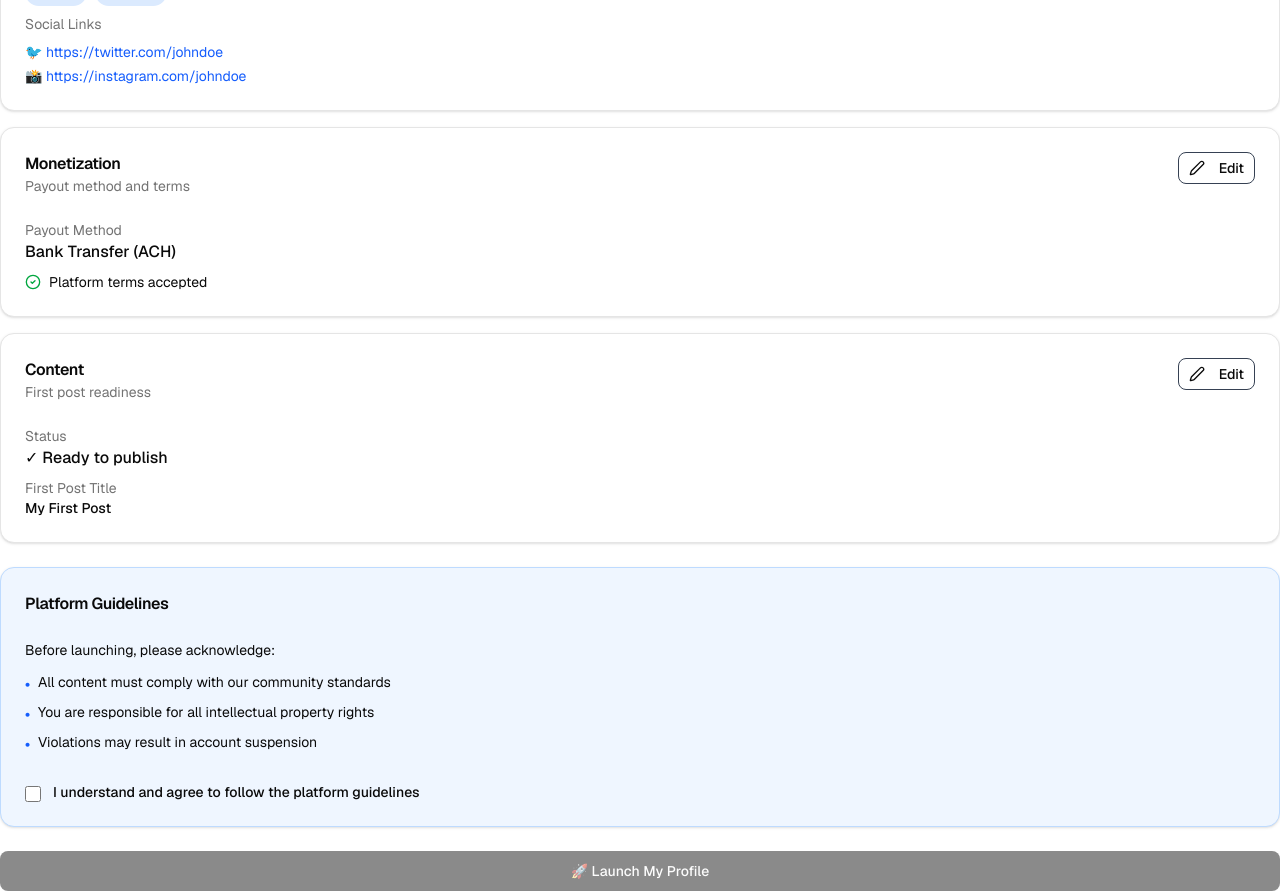
Test case: ReviewStep › should show launch confirmation dialog
(page scrolled)
Accept guidelines
Click the checkbox.
click(33, 794)  # box [25,786,41,802]
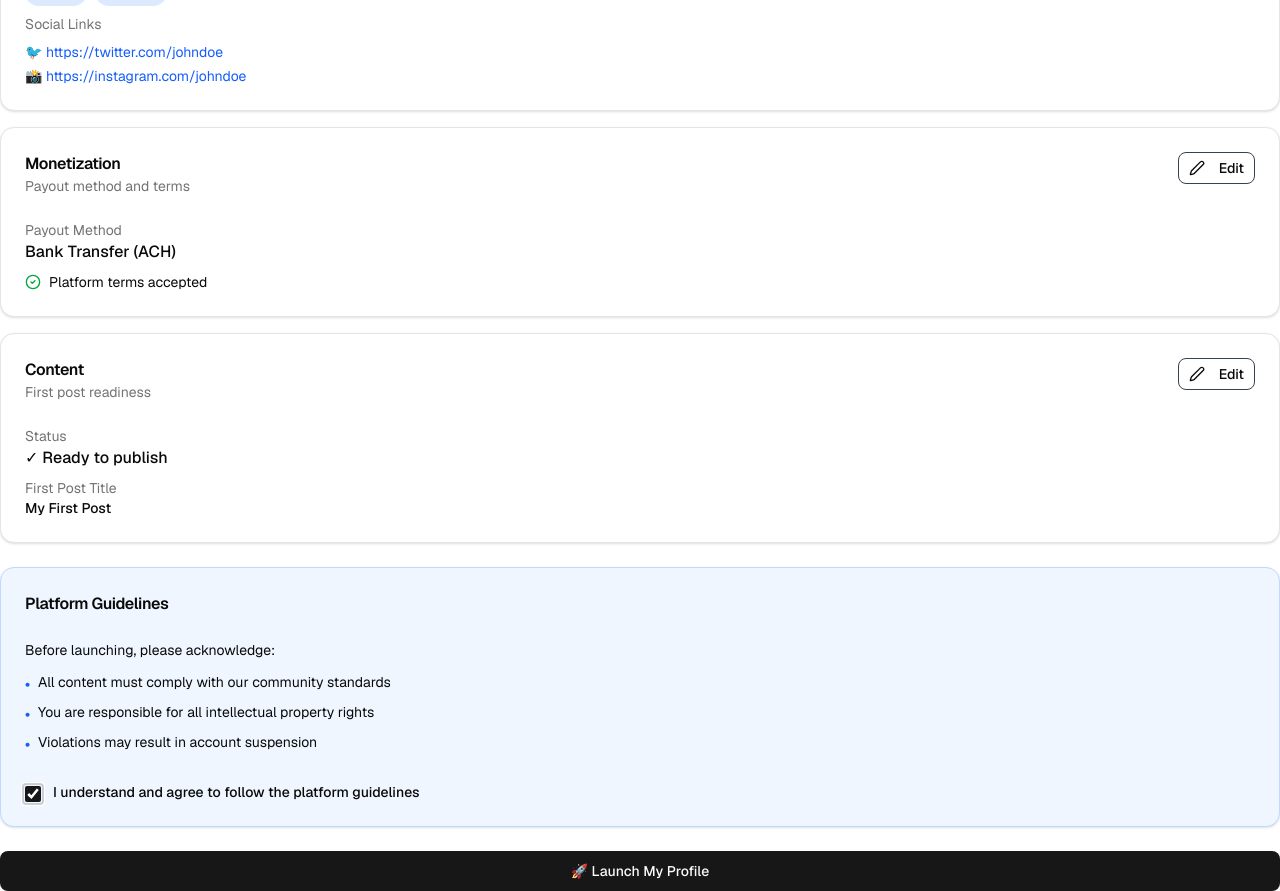
Click launch
Click the button "🚀 Launch My Profile".
click(640, 871)  # box [0,851,1279,890]
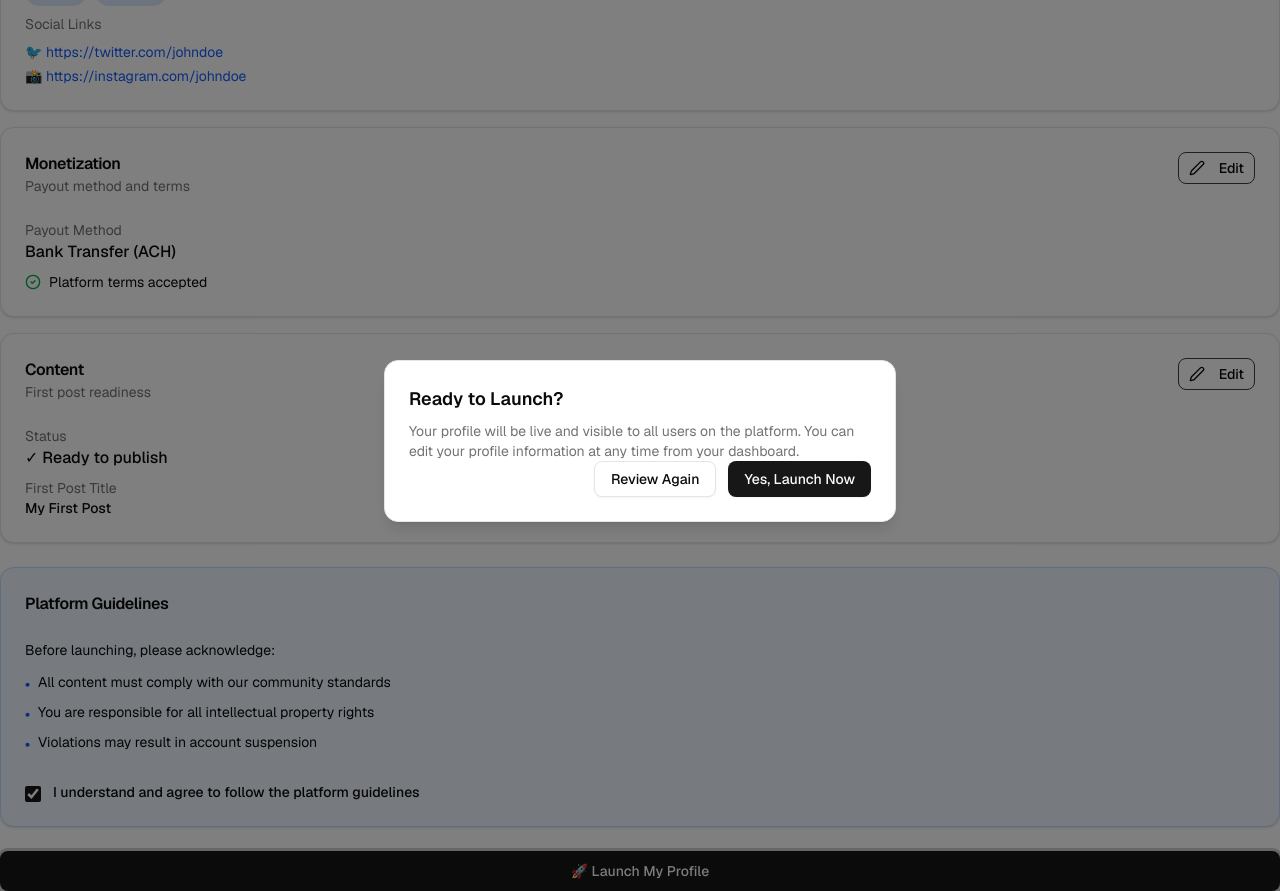
Check: the heading "Ready to Launch?" is shown, box [409,387,563,410]
